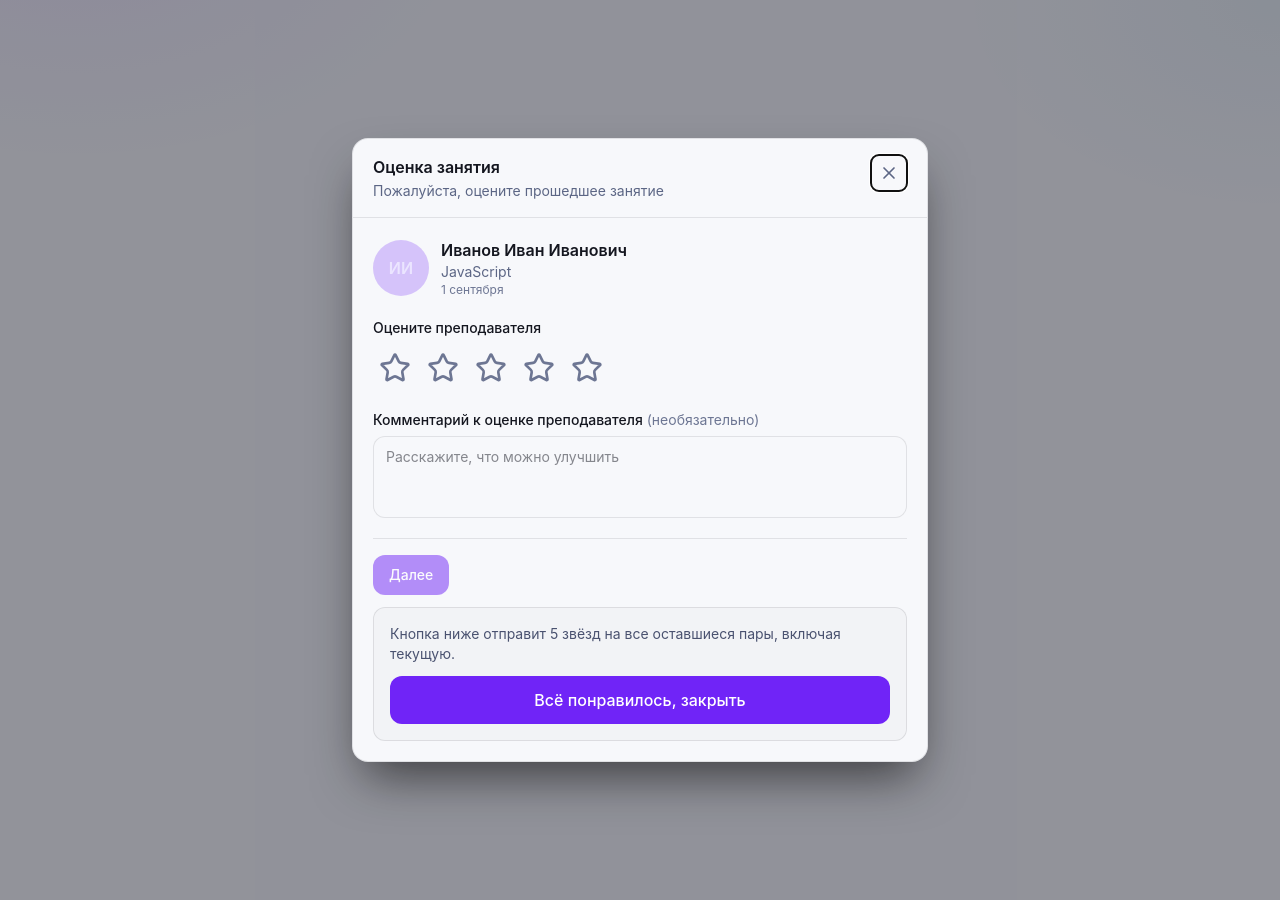
Test: EvaluateLessonGate › blocks teach stage without comment when mark is 3 or lower
Expected: the dialog "Оценка занятия" is shown, [352, 138, 928, 762]
Click the button named "2 из 5" at (443, 368), box [421, 346, 465, 390]
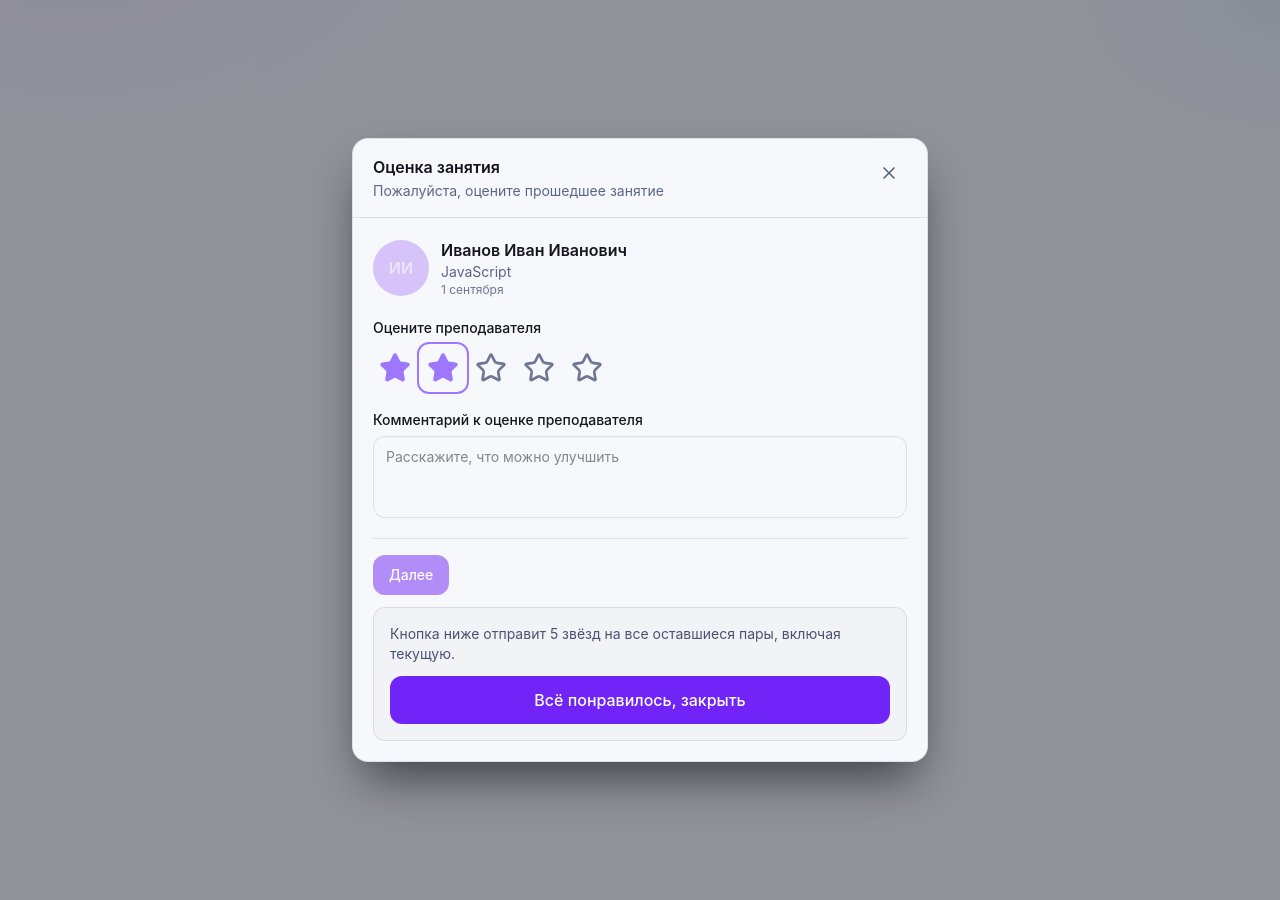
Expected: the button "Далее" is disabled, [373, 555, 449, 595]
Type "Нужно больше практики" into the text box with placeholder "Расскажите, что можно улучшить" at (640, 477), box [373, 436, 907, 518]
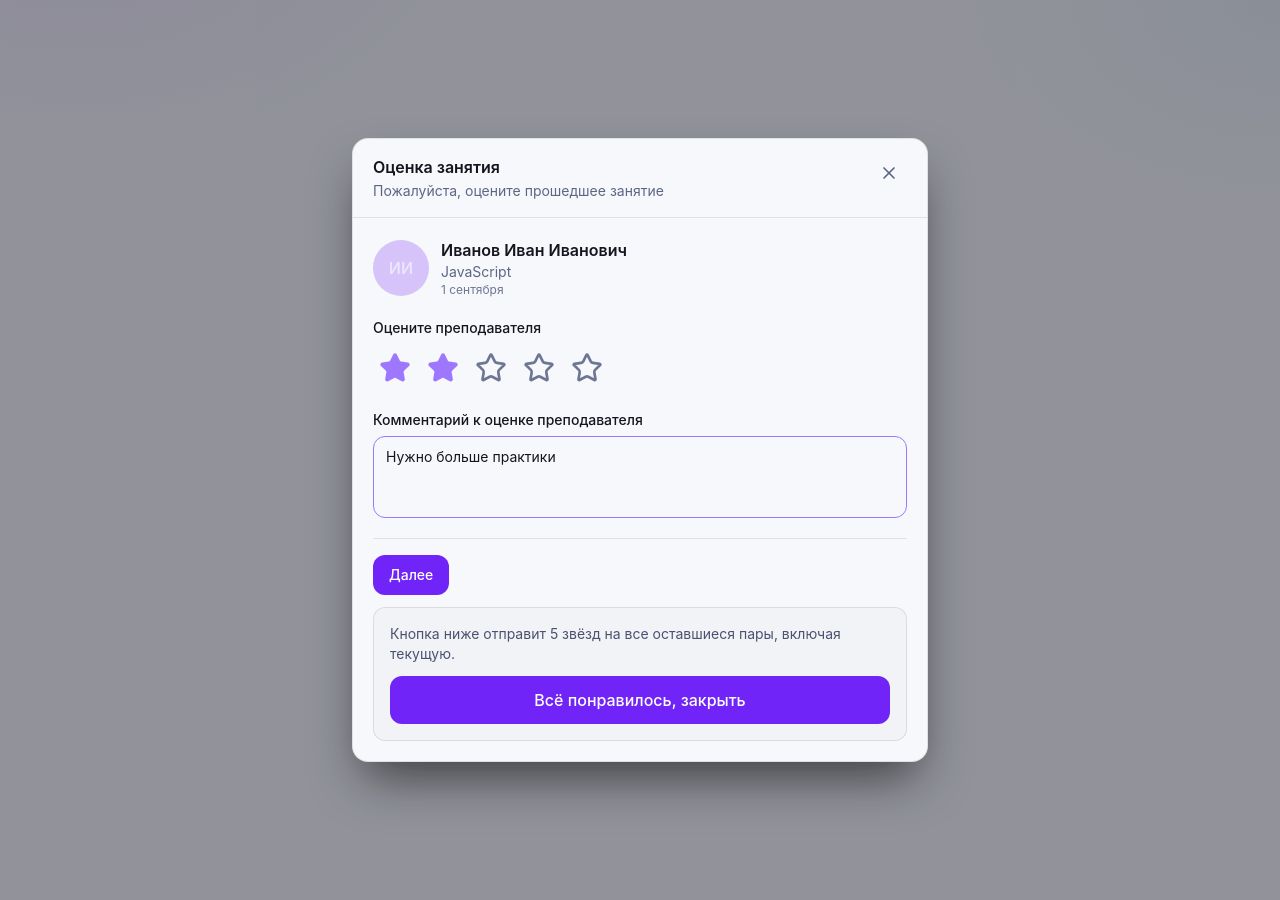
Expected: the button "Далее" is enabled, [373, 555, 449, 595]
